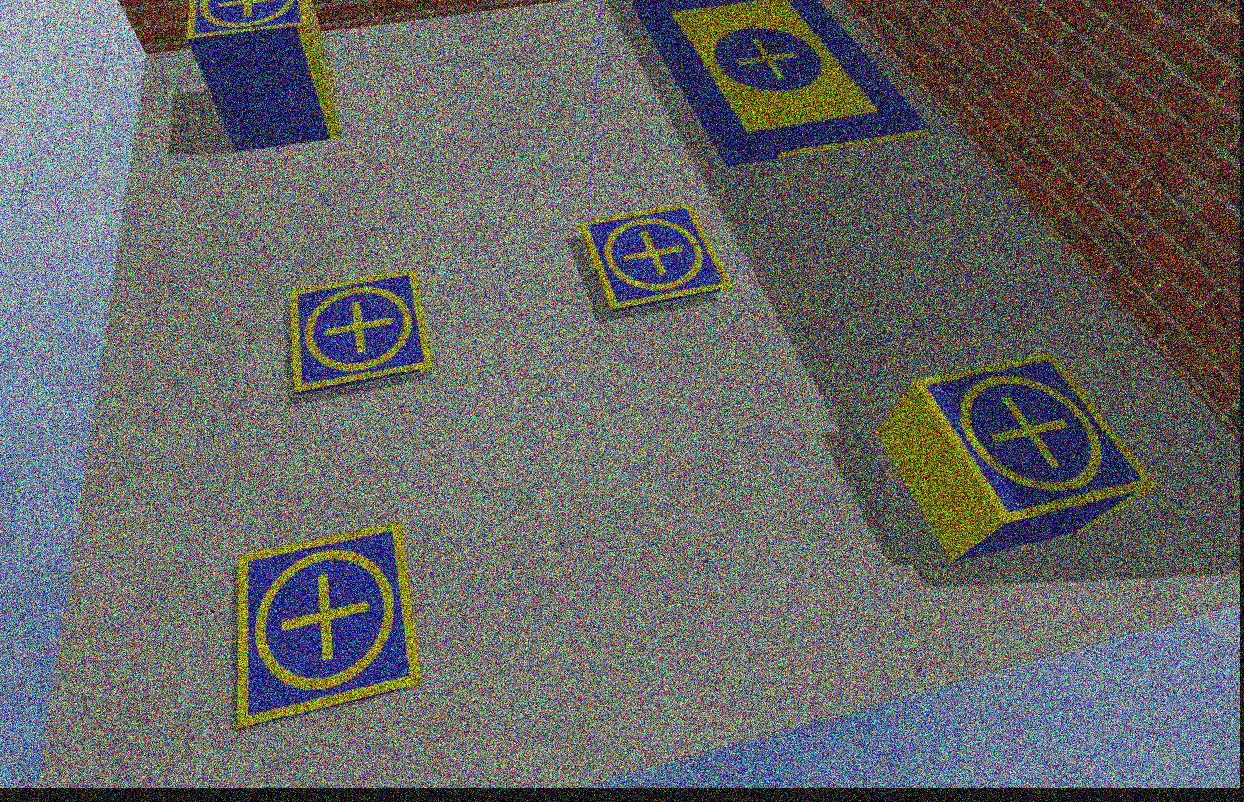large_base: (625, 1, 929, 170)
small_base: (915, 355, 1159, 525), (235, 522, 427, 734), (285, 272, 434, 396), (581, 207, 732, 315), (186, 1, 317, 38)
